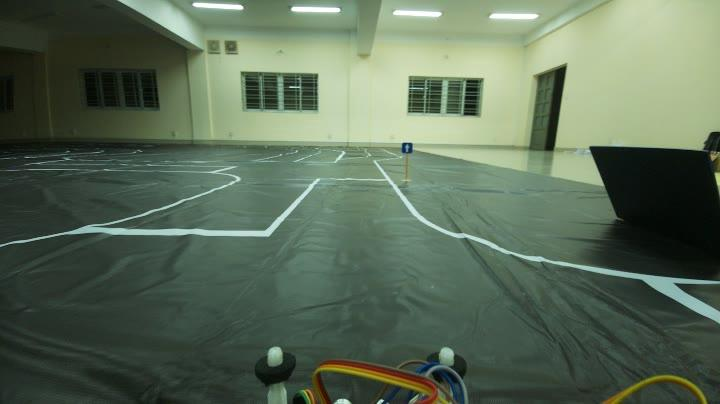onewayroad: (394, 131, 415, 158)
